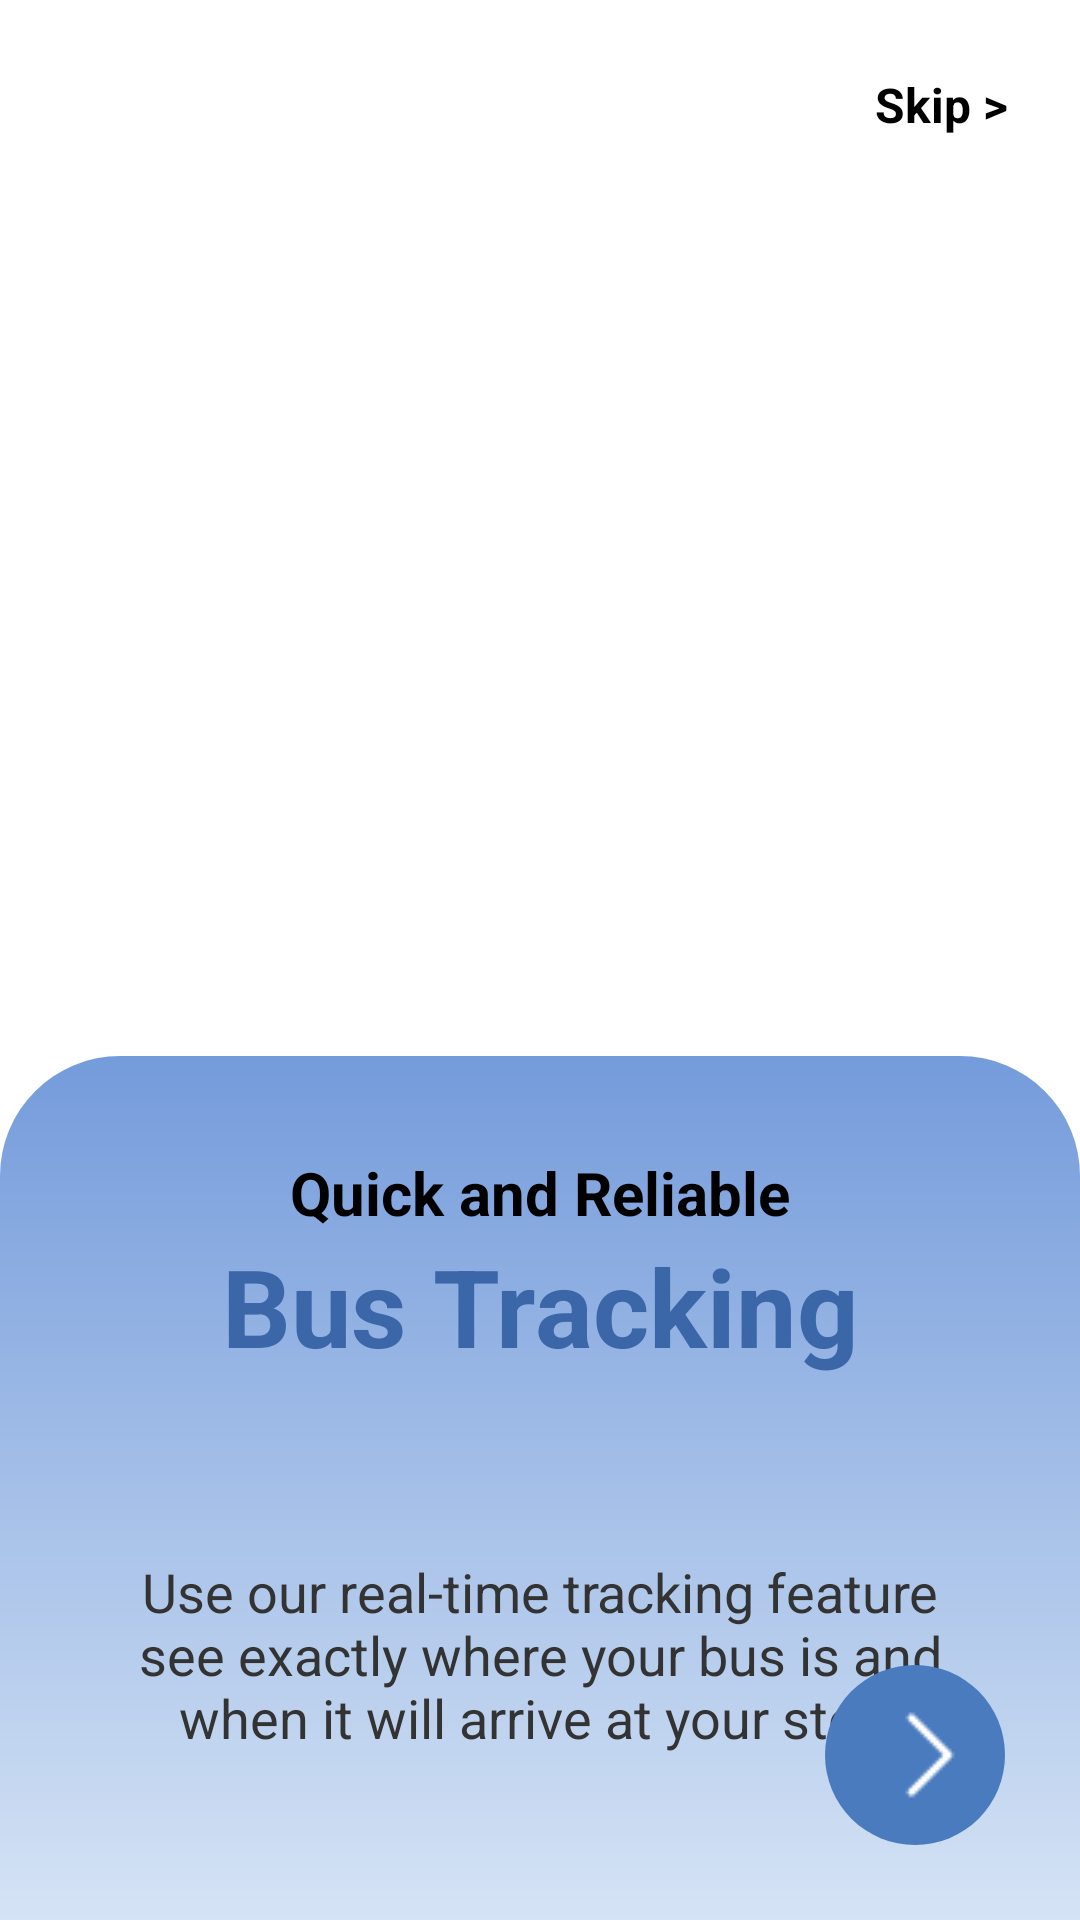

Where to tap for icons on this 1080w x 1920h app screen, as (x,y):
arrow: (915,1755)
